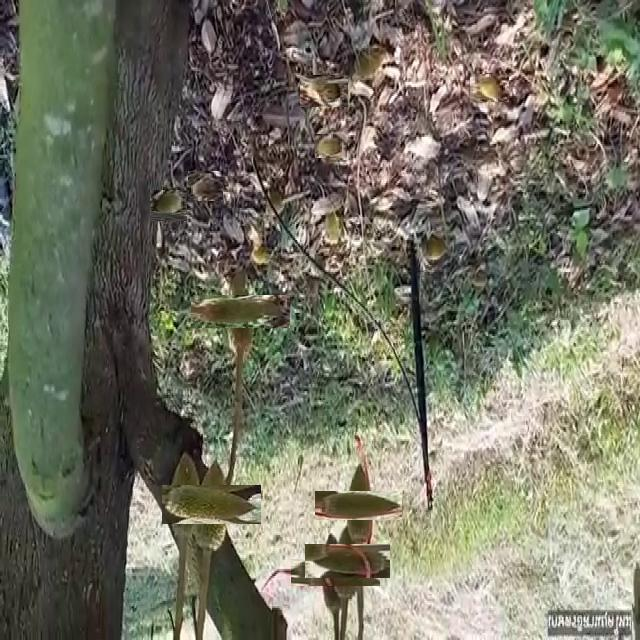durian: (177, 470, 247, 539), (208, 278, 274, 345), (317, 531, 377, 591), (167, 451, 204, 546), (306, 543, 365, 602), (330, 476, 388, 535), (304, 71, 345, 111), (151, 188, 186, 222), (420, 232, 450, 271), (473, 71, 506, 106), (189, 170, 222, 203), (317, 132, 346, 160)
